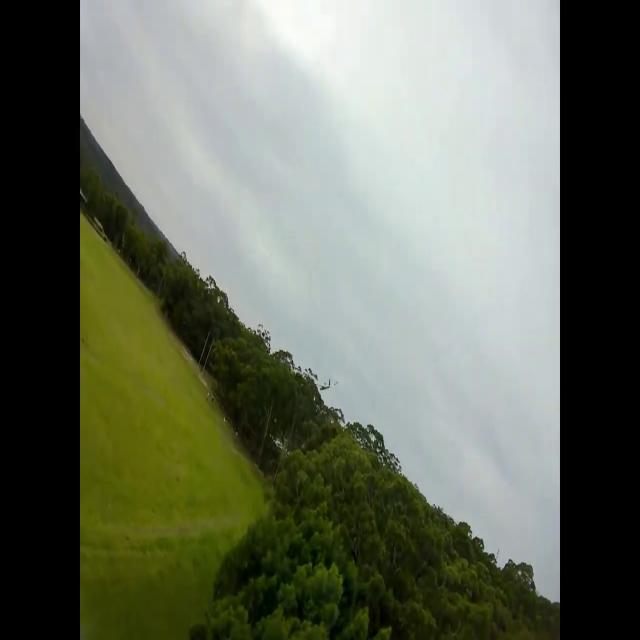iha: (308, 376, 334, 391)
